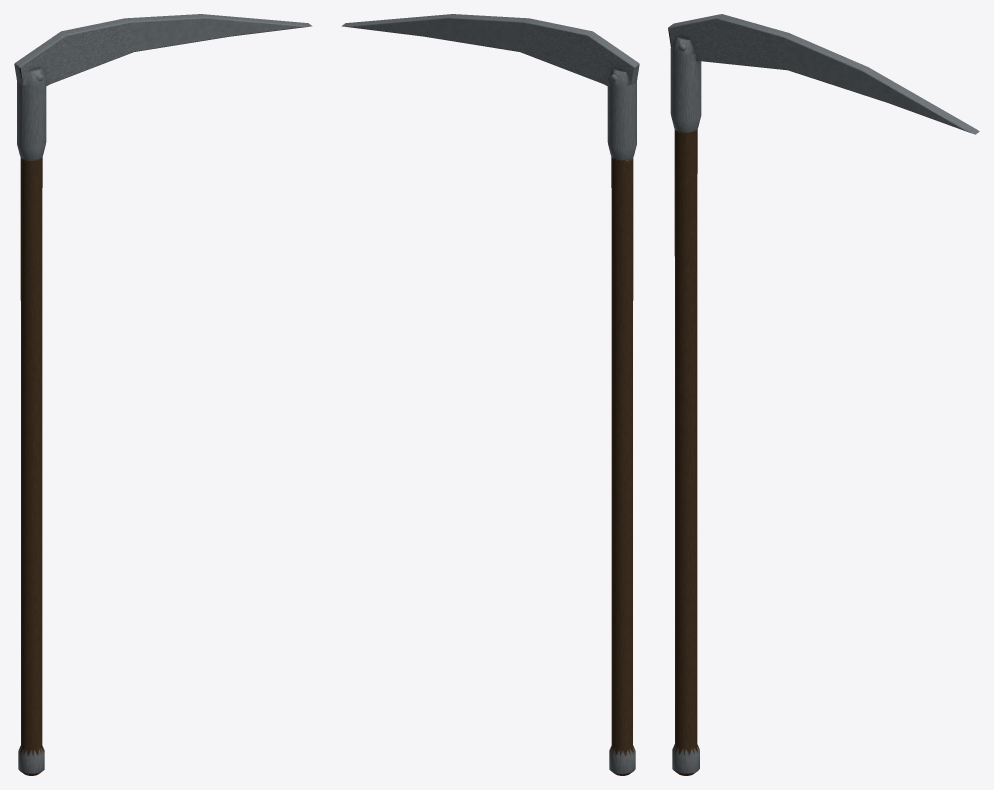
The model's file is scythe-plain.glb.
3 views of the same model, side by side, from view 1: azimuth 30°, elevation 25°; view 2: azimuth 150°, elevation 25°; view 3: azimuth 330°, elevation 25° (orthographic). The views are drawn at different scales.
Parts seen in each view (by area): view 1: scythe-plain; view 2: scythe-plain; view 3: scythe-plain.
Boxes of the visible parts, x1,y1,x2,y2 form: scythe-plain: [14, 14, 312, 775]; scythe-plain: [341, 14, 639, 775]; scythe-plain: [668, 14, 979, 775].
Bounding box in the file's own units: 0.7358 × 1.75 × 0.064.
1 material, 1 textured.
